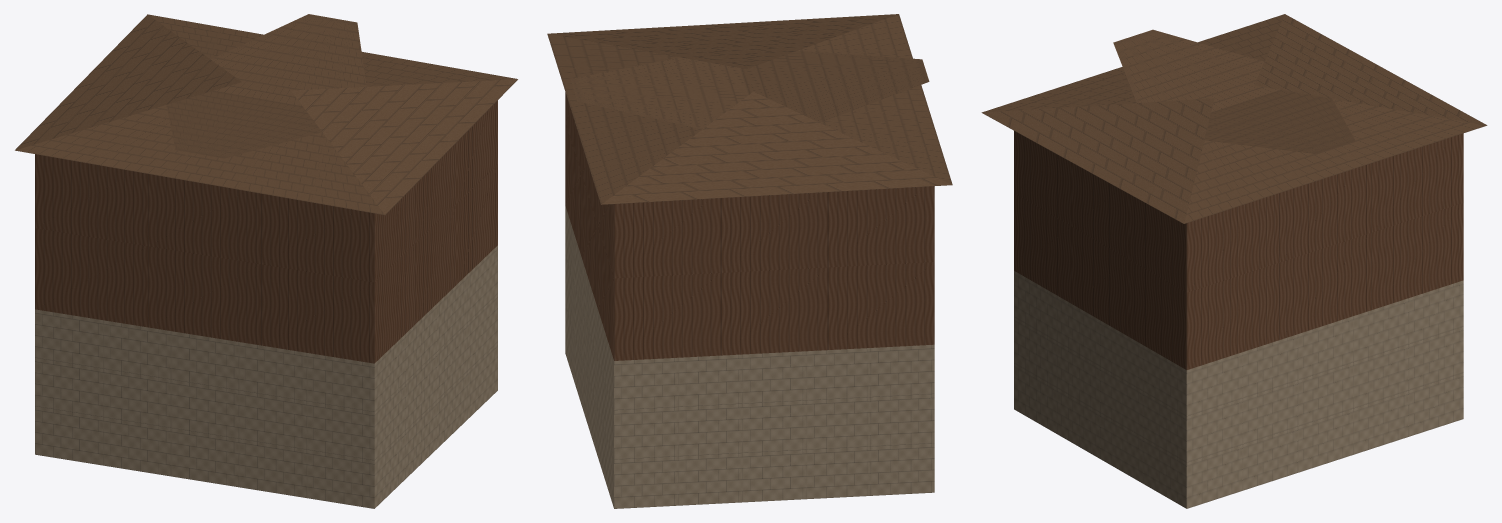
Rendered from bld_c43_34_261.gltf.
The picture shows the model from 3 angles, left to right: view 1: azimuth 30°, elevation 25°; view 2: azimuth 150°, elevation 25°; view 3: azimuth 270°, elevation 25°; orthographic projection. The views are drawn at different scales.
Parts seen in each view (by area): view 1: bld_c43_34_261; view 2: bld_c43_34_261; view 3: bld_c43_34_261.
Part boxes in pixels (x1=…): bld_c43_34_261: x1=15, y1=14, x2=517, y2=508; bld_c43_34_261: x1=547, y1=14, x2=952, y2=508; bld_c43_34_261: x1=981, y1=14, x2=1487, y2=508.
Bounding box in the file's own units: 16.57 × 11.8 × 16.88.
Materials: 3 (3 with a texture image).
